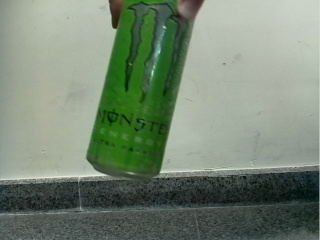botella plastico: (85, 1, 196, 180)
